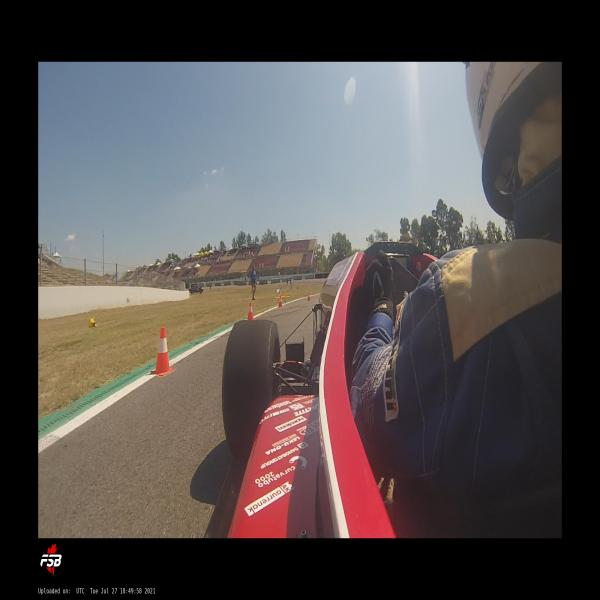orange_cone: (151, 326, 175, 376), (248, 302, 252, 320), (279, 295, 282, 307), (308, 292, 310, 301)
yellow_cone: (89, 317, 97, 327)
